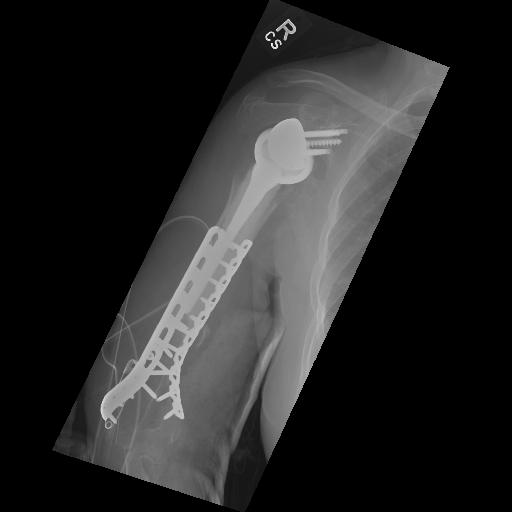implant: (103, 221, 258, 428), (233, 116, 354, 223)
